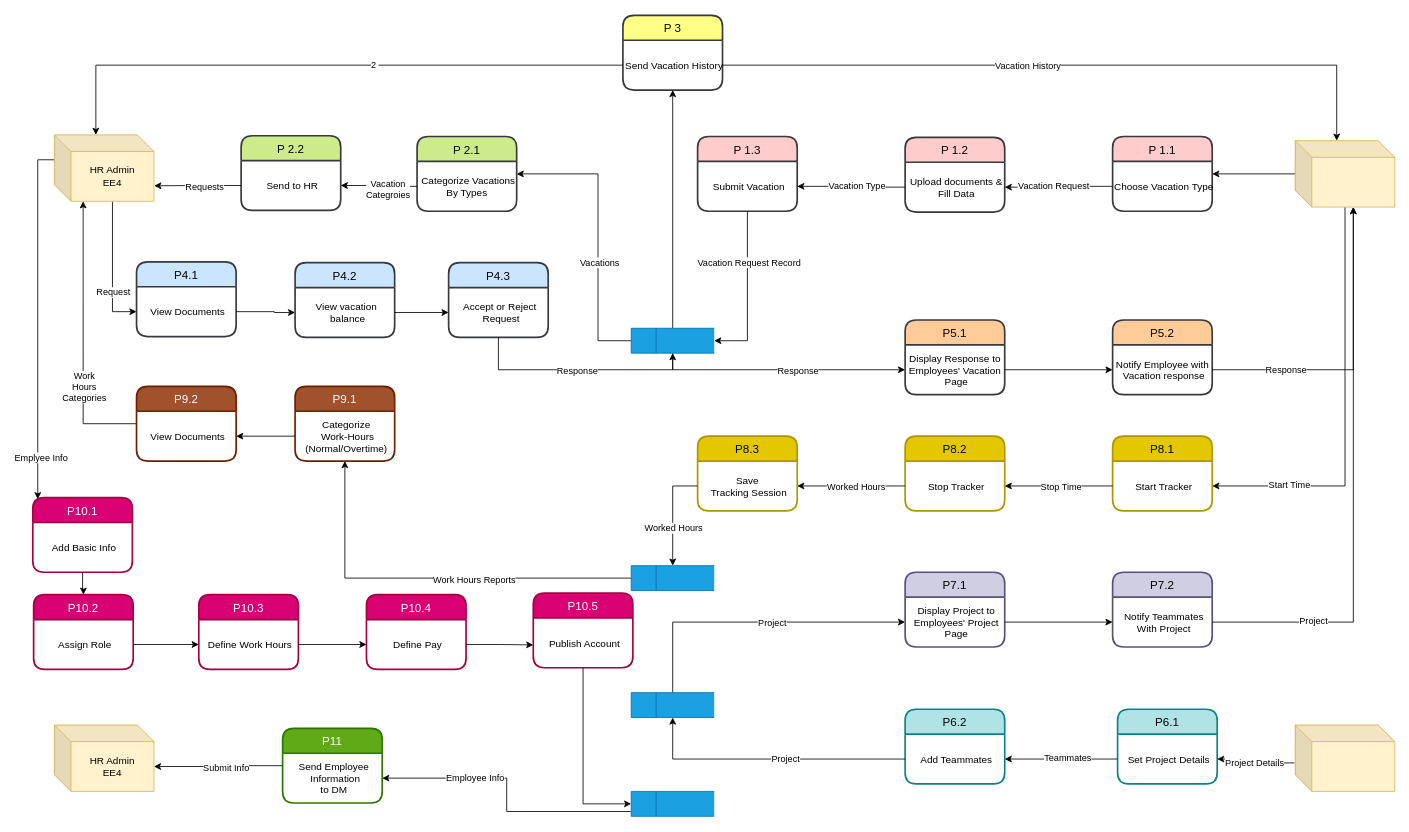
This 1409x832 diagram has some shape labels left out. The centre of each missing label's shape, as x and y in pixels:
"DS1 Vacations" belongs at pixel 672 340.
"DS2 Projects" belongs at pixel 672 705.
"DS3 Work Hours" belongs at pixel 672 578.
"DS4 Employees" belongs at pixel 672 803.
"Employee EE3" belongs at pixel 1344 173.
"Project Manager EE2" belongs at pixel 1344 757.
